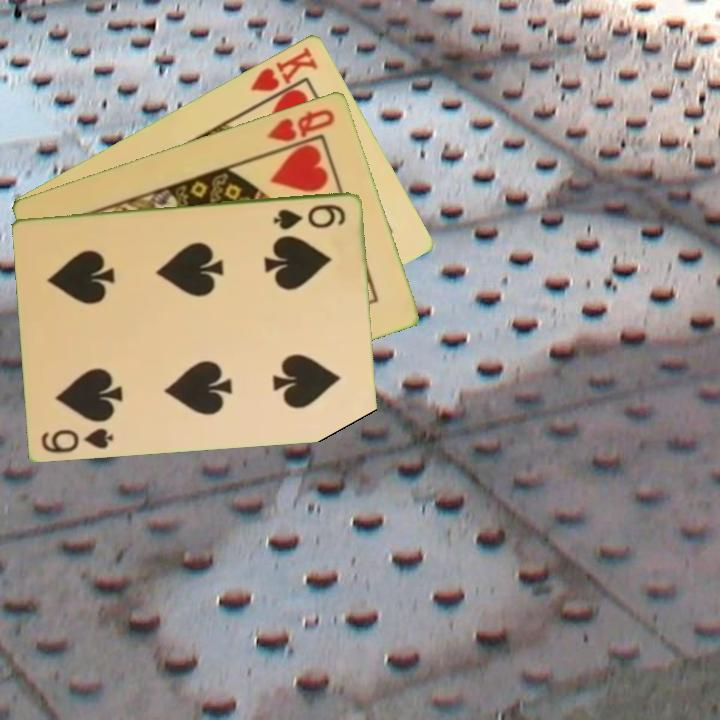6s: (270, 200, 349, 232), (38, 424, 117, 456)
Kh: (247, 42, 321, 108)
Qh: (263, 105, 338, 145)
